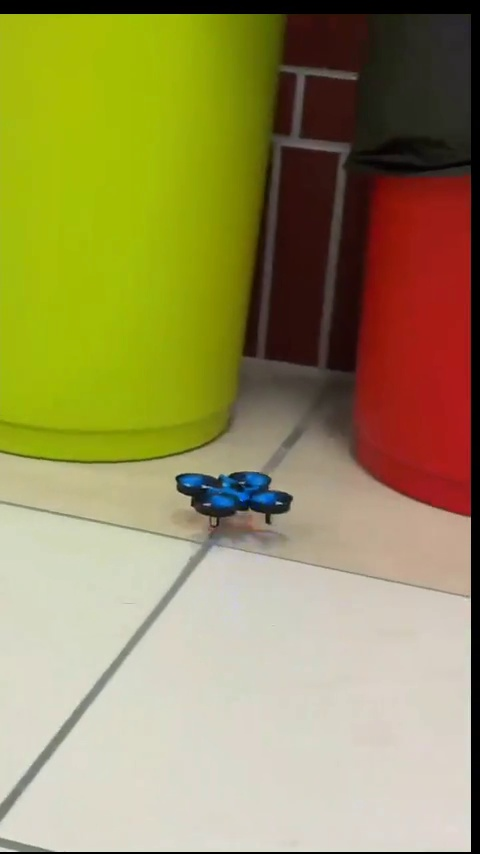drone: (171, 465, 295, 535)
